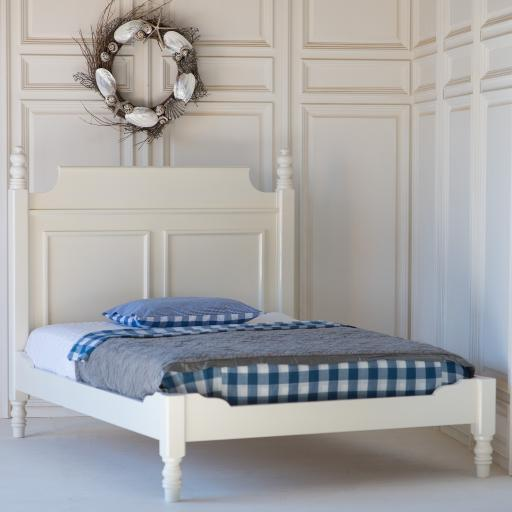bed: (8, 147, 496, 502)
